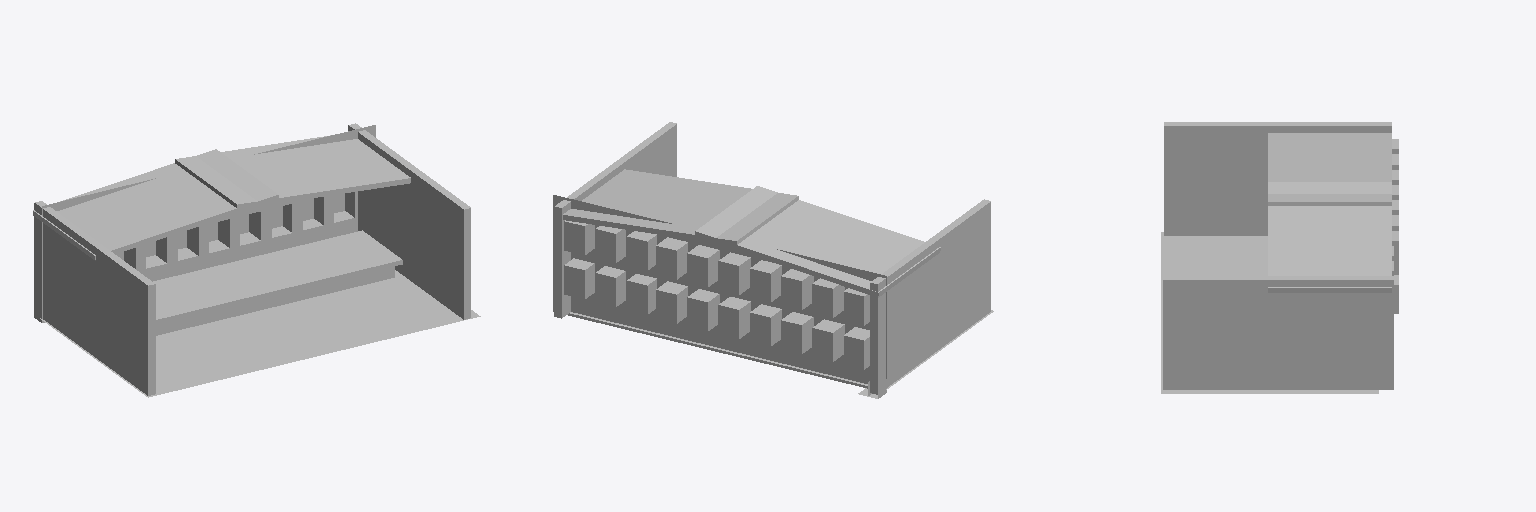
File: shooting_gallery.obj
The picture shows the model from 3 angles: view 1: azimuth 30°, elevation 25°; view 2: azimuth 150°, elevation 25°; view 3: azimuth 270°, elevation 25°; orthographic projection.
Size of the model in its own units: 24.27 by 8.57 by 14.9.